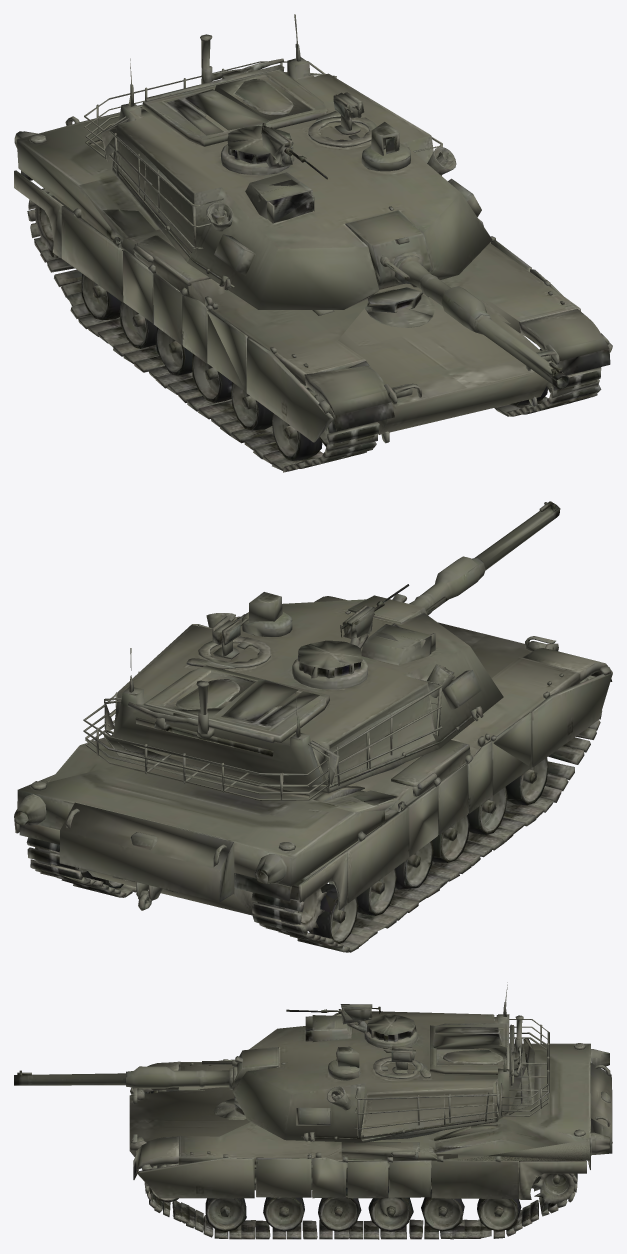
Rendered from tank_mbt.glb.
The picture shows the model from 3 angles, top to bottom: view 1: azimuth 30°, elevation 25°; view 2: azimuth 150°, elevation 25°; view 3: azimuth 270°, elevation 25°; orthographic projection. The views are drawn at different scales.
Parts seen in each view (by area): view 1: hull, P_turret, P_barrel; view 2: P_turret, hull, P_barrel; view 3: hull, P_turret, P_barrel.
Boxes of the visible parts, x1,y1,x2,y2 form: hull: (14,104,612,472); P_turret: (17,14,492,309); P_barrel: (372,233,569,389); P_turret: (18,584,503,857); hull: (14,596,612,952); P_barrel: (392,501,560,615); hull: (129,1043,612,1239); P_turret: (232,982,590,1142); P_barrel: (14,1050,277,1089).
Bounding box in the file's own units: 3.8 × 3.19 × 9.5.
Materials: 4 (3 with a texture image).
